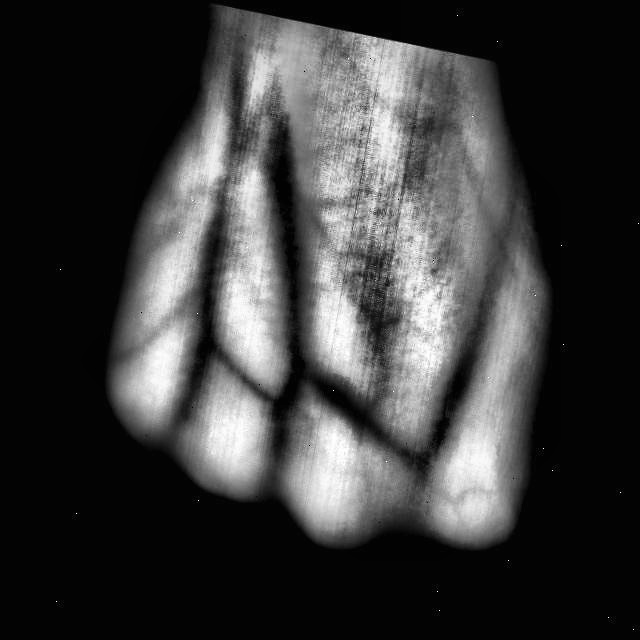Vein: (187, 134, 238, 325), (266, 144, 311, 342)
